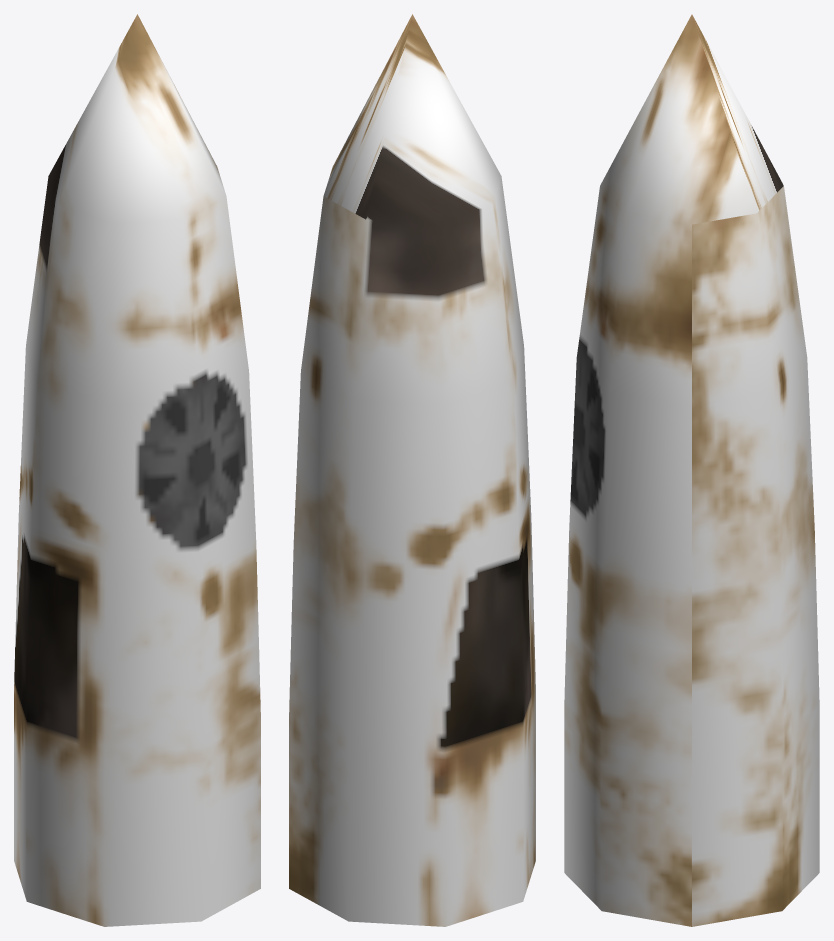
Rendered from fx_bullet_01.fbx.
The picture shows the model from 3 angles, left to right: view 1: azimuth 30°, elevation 25°; view 2: azimuth 150°, elevation 25°; view 3: azimuth 270°, elevation 25°; orthographic projection.
Visible parts, largest first — view 1: Cylinder001; view 2: Cylinder001; view 3: Cylinder001.
Boxes of the visible parts, x1,y1,x2,y2 form: Cylinder001: (14,14,260,926); Cylinder001: (289,14,535,926); Cylinder001: (564,14,819,926).
Size of the model in its own units: 18.19 by 67.58 by 18.19.
1 material, 1 textured.
